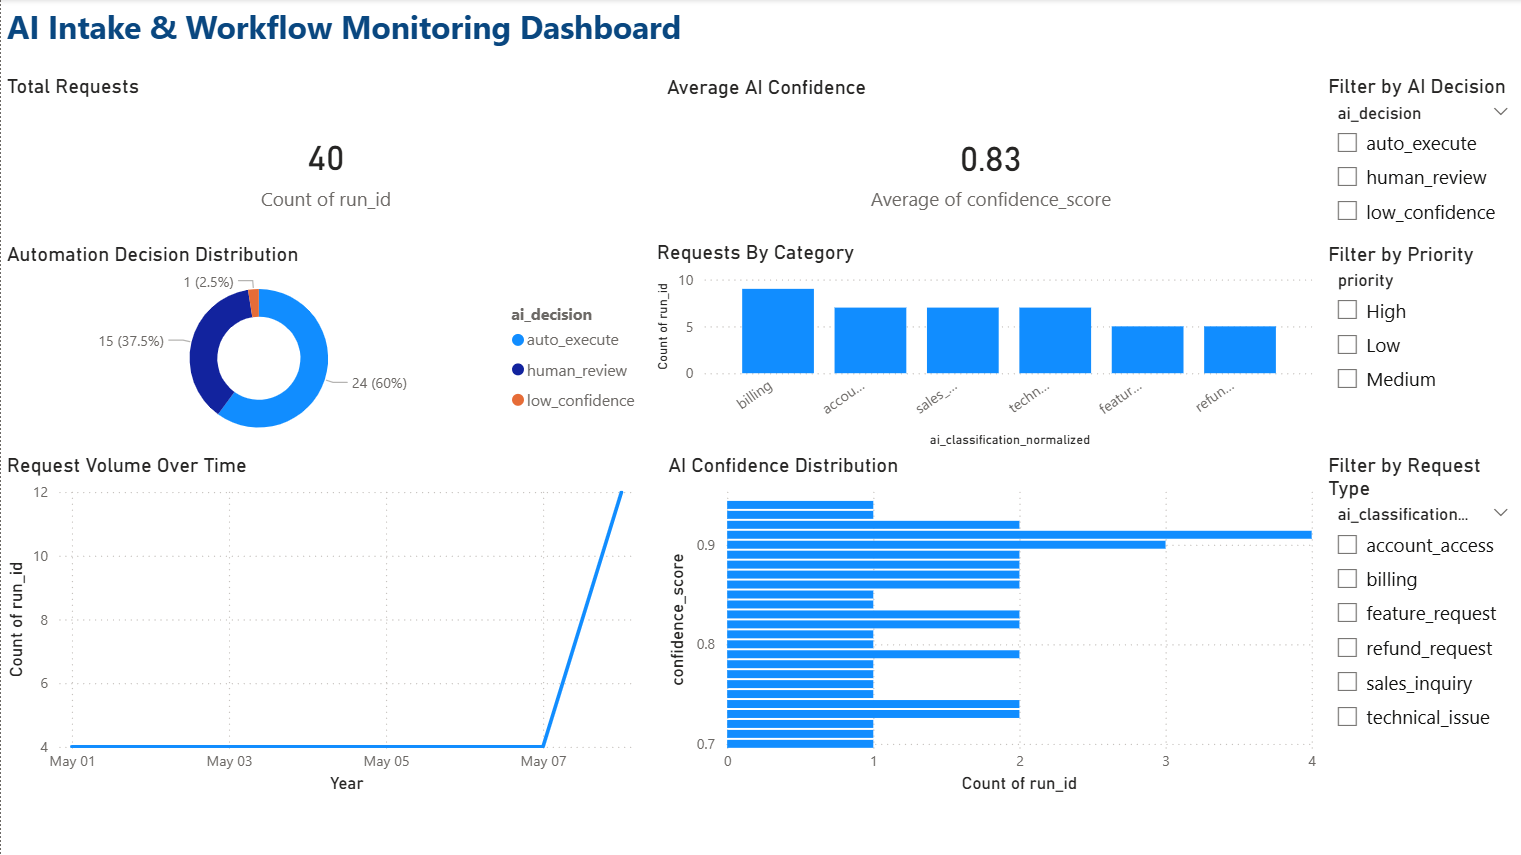

Layout of this report page (visuals, bound fields, positions):
{"tool":"powerbi","page":{"name":"Page 1","canvas":[1280,720],"ordinal":0},"visuals":[{"type":"card","title":"Total Requests","fields":{"Values":["Count(AI Intake Triage Sample Dataset - Sheet1.run_id)"]},"box":[0,62.8,547.2,140.9],"z":1},{"type":"card","title":"Average AI Confidence","fields":{"Values":["Avg(AI Intake Triage Sample Dataset - Sheet1.confidence_score)"]},"box":[555.4,64,555.4,139.7],"z":2},{"type":"donutChart","title":"Automation Decision Distribution","fields":{"Category":["AI Intake Triage Sample Dataset - Sheet1.ai_decision"],"Y":["CountNonNull(AI Intake Triage Sample Dataset - Sheet1.run_id)"]},"box":[0,203.7,547.2,177.6],"z":3},{"type":"clusteredColumnChart","title":"Requests By Category","fields":{"Category":["AI Intake Triage Sample Dataset - Sheet1.ai_classification_normalized"],"Y":["CountNonNull(AI Intake Triage Sample Dataset - Sheet1.run_id)"]},"box":[547.2,202.5,563.7,178.8],"z":4},{"type":"lineChart","title":"Request Volume Over Time","fields":{"Y":["CountNonNull(AI Intake Triage Sample Dataset - Sheet1.run_id)"],"Category":["AI Intake Triage Sample Dataset - Sheet1.created_at.Variation.Date Hierarchy.Year","AI Intake Triage Sample Dataset - Sheet1.created_at.Variation.Date Hierarchy.Quarter","AI Intake Triage Sample Dataset - Sheet1.created_at.Variation.Date Hierarchy.Month","AI Intake Triage Sample Dataset - Sheet1.created_at.Variation.Date Hierarchy.Day"]},"box":[0,381.3,547.2,291.3],"z":5},{"type":"textbox","box":[0,0,589.8,62.8],"z":6},{"type":"slicer","title":"Filter by Priority","fields":{"Values":["AI Intake Triage Sample Dataset - Sheet1.priority"]},"box":[1110.9,203.7,169.4,177.6],"z":7},{"type":"slicer","title":"Filter by AI Decision","fields":{"Values":["AI Intake Triage Sample Dataset - Sheet1.ai_decision"]},"box":[1110.9,62.8,169.4,140.9],"z":8},{"type":"slicer","title":"Filter by Request Type","fields":{"Values":["AI Intake Triage Sample Dataset - Sheet1.ai_classification_normalized"]},"box":[1110.9,381.3,169.4,291.3],"z":9},{"type":"barChart","title":"AI Confidence Distribution","fields":{"Category":["AI Intake Triage Sample Dataset - Sheet1.confidence_score"],"Y":["Count(AI Intake Triage Sample Dataset - Sheet1.run_id)"]},"box":[556.6,381.3,555.4,291.3],"z":10}]}

Visuals, with their boxes in screenshot pixels (x1, y1, x2, y2), scaled from the page's 1280x720 canvas onto the 1521x855 screenshot:
"Total Requests" card: box=[0, 75, 650, 242]
"Average AI Confidence" card: box=[660, 76, 1320, 242]
"Automation Decision Distribution" donutChart: box=[0, 242, 650, 453]
"Requests By Category" clusteredColumnChart: box=[650, 240, 1320, 453]
"Request Volume Over Time" lineChart: box=[0, 453, 650, 799]
textbox: box=[0, 0, 701, 75]
"Filter by Priority" slicer: box=[1320, 242, 1520, 453]
"Filter by AI Decision" slicer: box=[1320, 75, 1520, 242]
"Filter by Request Type" slicer: box=[1320, 453, 1520, 799]
"AI Confidence Distribution" barChart: box=[661, 453, 1321, 799]
